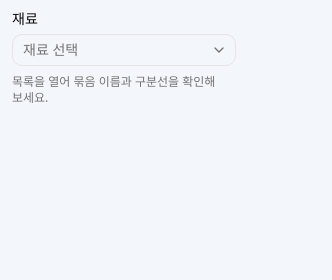
Test: groups: shows group names, and a sold-out item cannot be chosen
Click the dropdown labelled "재료".
click(124, 50)  # box [12,34,236,66]
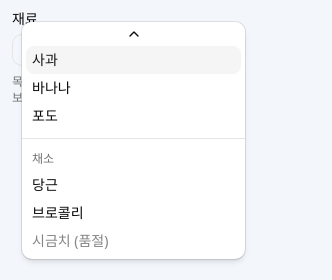
Check: the text "채소" is shown, box [32,150,54,167]
Click the option "브로콜리".
click(58, 212)  # box [32,203,84,222]
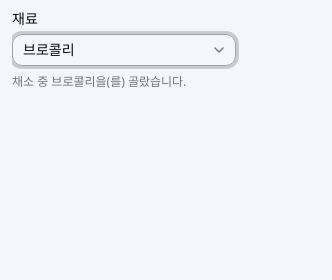
Check: the message shows "채소 중 브로콜리", box [12,73,186,90]
